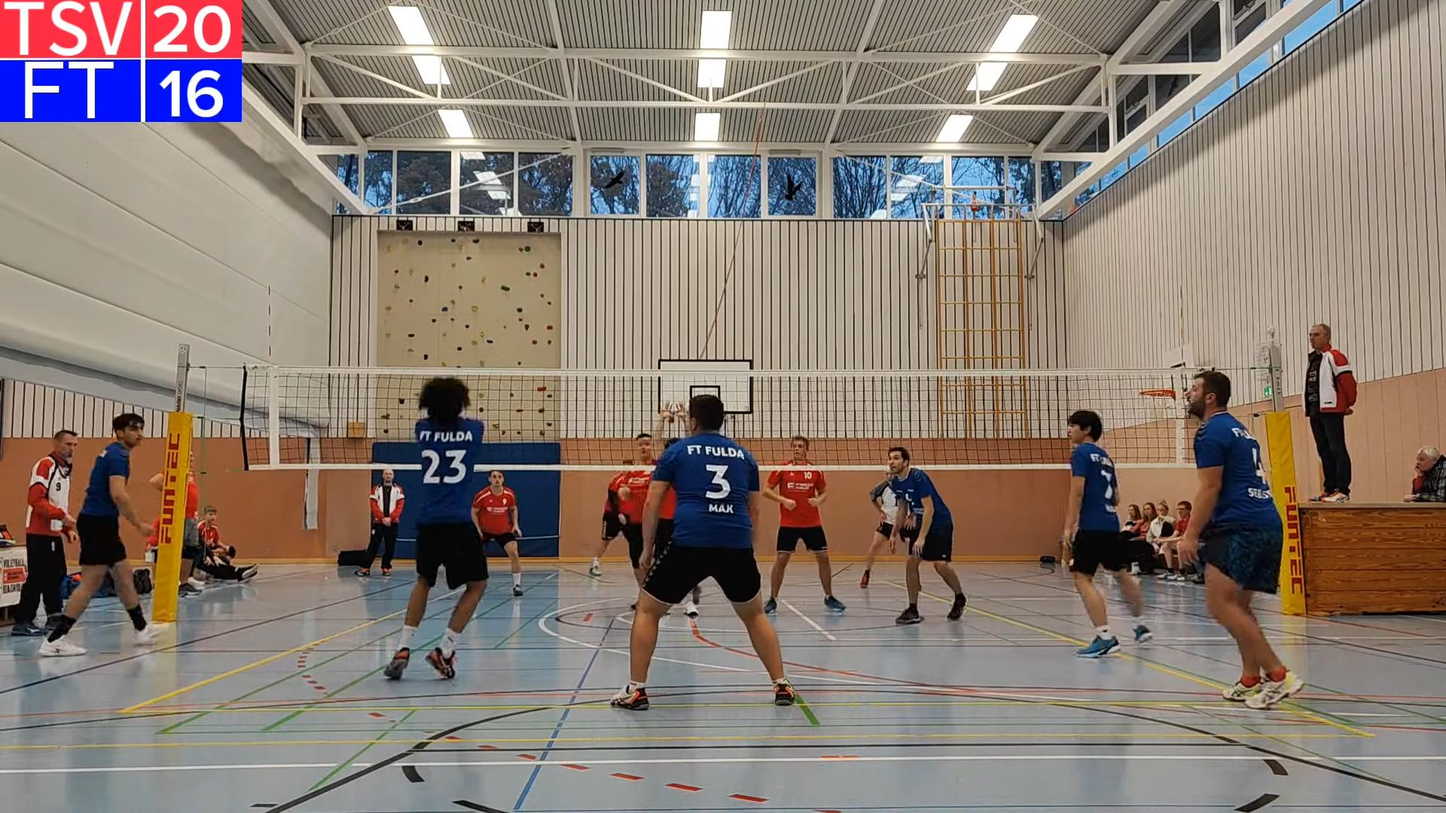ricezione: (379, 373, 487, 686)
